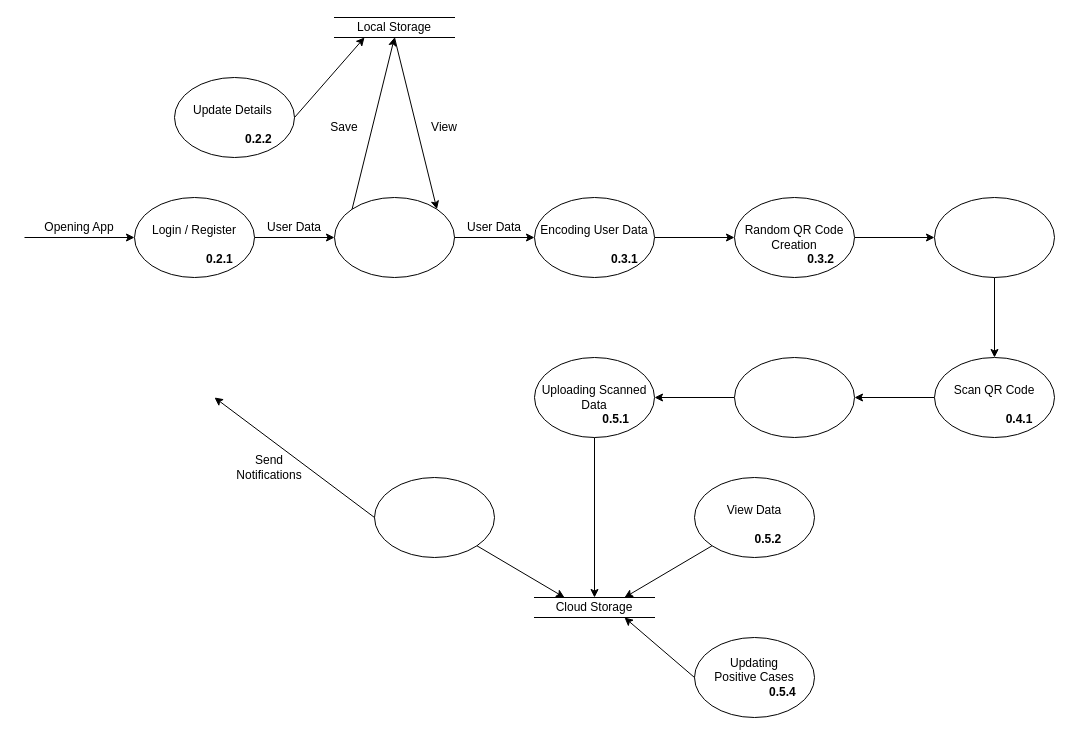
Image size: 1072x735. Some labels were removed from this diagram. Here are the shapes that lost their labels. From the top down, the box of each, then its label:
(334, 196, 454, 278): Enter User Details 0.2.2
(934, 196, 1054, 278): Display Generated QR Code 0.3.3
(734, 356, 854, 438): Decoding Scanned QR Code 0.4.2
(374, 476, 494, 558): Selecting Users with same Timestamp of Positive Cases 0.5.3
